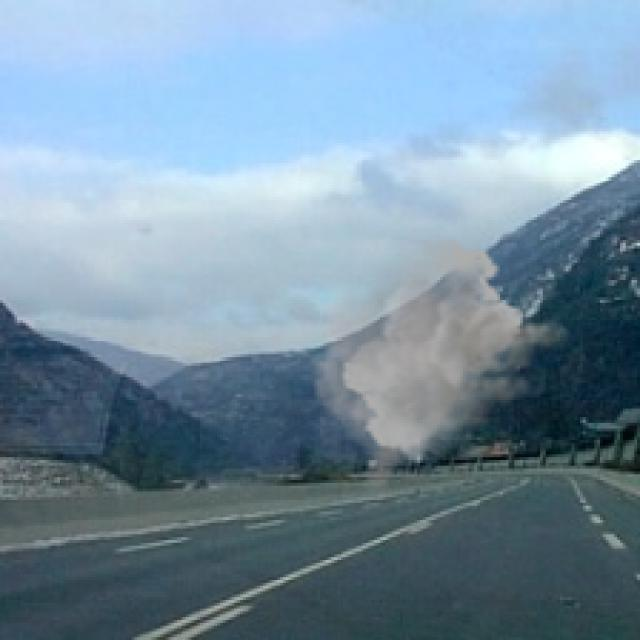smoke: (306, 235, 574, 494)
